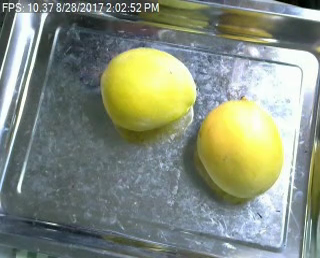Mango: (197, 100, 285, 198), (100, 47, 196, 130)
